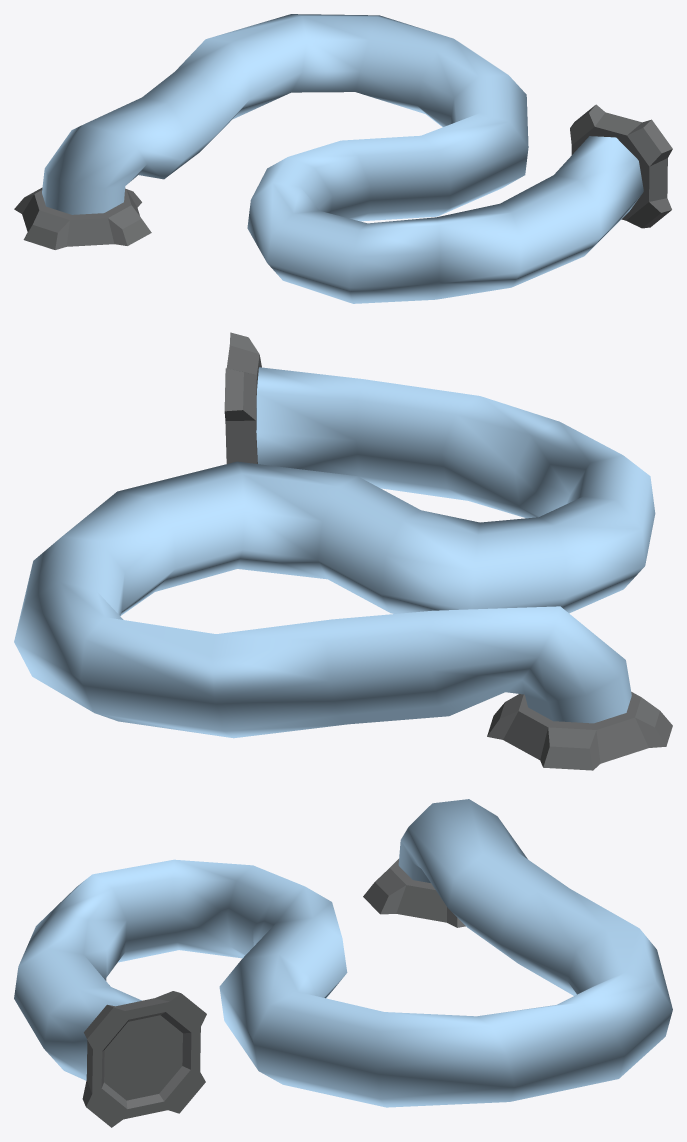
The model's file is Hangar_hose_01.fbx.
The picture shows the model from 3 angles, top to bottom: view 1: azimuth 30°, elevation 25°; view 2: azimuth 150°, elevation 25°; view 3: azimuth 270°, elevation 25°; orthographic projection. The views are drawn at different scales.
Visible parts, largest first — view 1: Hose_01; view 2: Hose_01; view 3: Hose_01.
Part boxes in pixels (box(x1,y1,x2,y2)): Hose_01: box(14, 14, 672, 303); Hose_01: box(14, 332, 672, 770); Hose_01: box(14, 799, 672, 1127).
Size of the model in its own units: 139 by 28.54 by 140.
